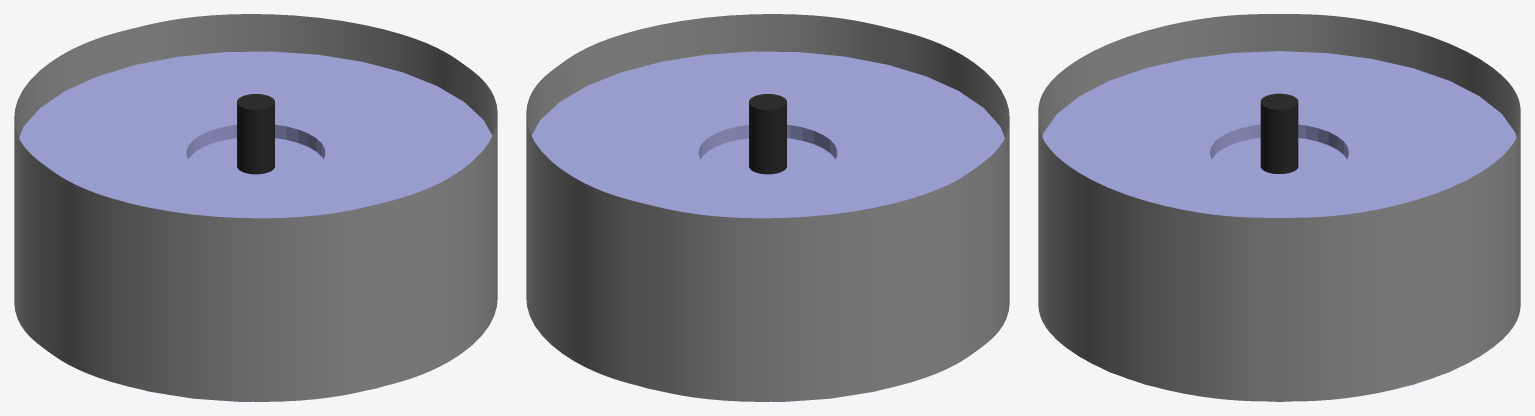
File: BasicCandle.fbx
3 renders of one model, left to right at view 1: azimuth 30°, elevation 25°; view 2: azimuth 150°, elevation 25°; view 3: azimuth 270°, elevation 25°, orthographic.
Visible parts, largest first — view 1: Surface, Cylinder, Cylinder.002; view 2: Surface, Cylinder, Cylinder.002; view 3: Surface, Cylinder, Cylinder.002.
Part boxes in pixels (<box>): Surface: <box>14,14,497,401</box>; Cylinder: <box>19,51,492,401</box>; Cylinder.002: <box>237,94,274,174</box>; Surface: <box>526,14,1009,401</box>; Cylinder: <box>531,51,1004,401</box>; Cylinder.002: <box>749,94,786,174</box>; Surface: <box>1038,14,1520,401</box>; Cylinder: <box>1042,51,1516,401</box>; Cylinder.002: <box>1260,93,1298,173</box>.
Size of the model in its own units: 76.2 by 34.61 by 76.2.
